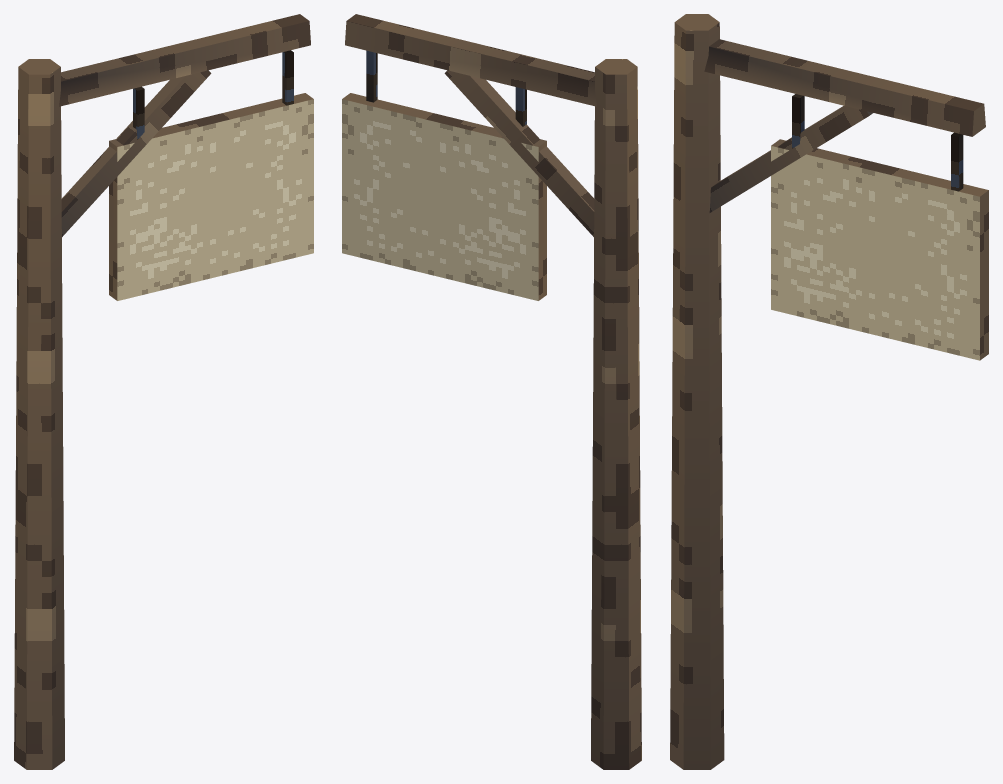
Rendered from mprop.signpost__hanging.glb.
The picture shows the model from 3 angles, left to right: view 1: azimuth 30°, elevation 25°; view 2: azimuth 150°, elevation 25°; view 3: azimuth 330°, elevation 25°; orthographic projection. The views are drawn at different scales.
Parts seen in each view (by area): view 1: kit_boards, kit_post; view 2: kit_boards, kit_post; view 3: kit_boards, kit_post.
Boxes of the visible parts, x1,y1,x2,y2 form: kit_boards: [59, 14, 313, 300]; kit_post: [14, 59, 64, 769]; kit_boards: [342, 14, 596, 300]; kit_post: [591, 59, 641, 769]; kit_boards: [704, 39, 988, 360]; kit_post: [670, 14, 724, 769].
Size of the model in its own units: 1.18 by 2.7 by 0.18.
3 materials, 3 textured.
